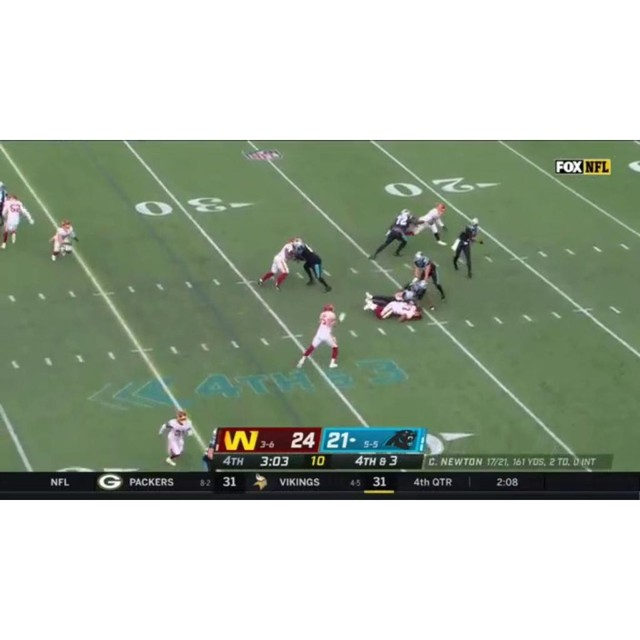american-football-player: (297, 303, 343, 369), (369, 208, 415, 261), (292, 239, 332, 294), (258, 239, 299, 292), (158, 409, 195, 467), (451, 219, 482, 278), (0, 195, 32, 250), (413, 252, 446, 302), (413, 203, 447, 245), (49, 219, 78, 262)
